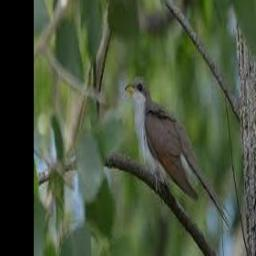Cuckoo: (124, 75, 232, 230)
